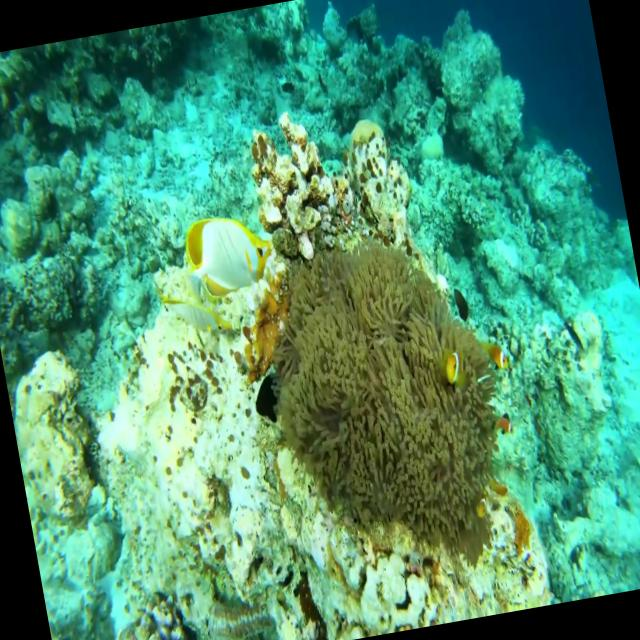fish: (175, 208, 279, 299)
